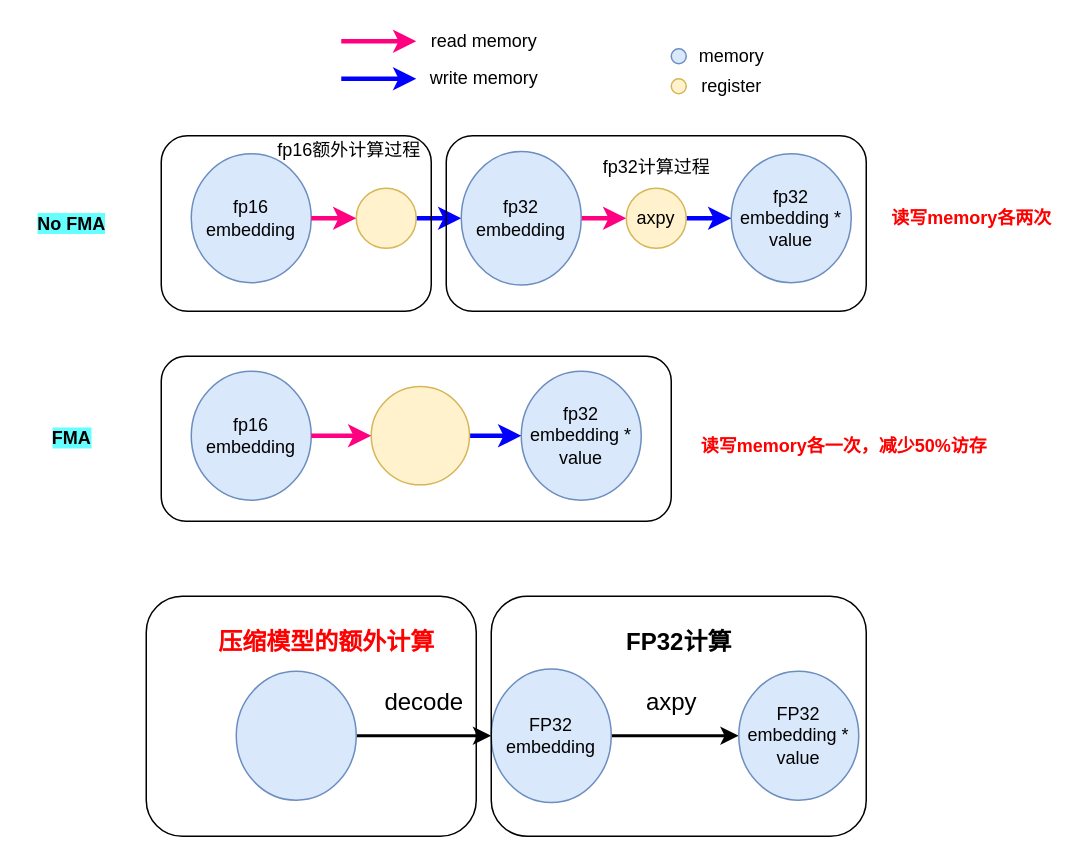
Image size: 1086x863. Some labels were removed from this diagram. The shapes that lost their labels are listed below. From the top down, each one's centre as x and y in pixels, then its label:
the point at 385,217: fp16 decode
the point at 420,435: fp16 decode + fma
the point at 295,735: INT8/FP16 embedding
